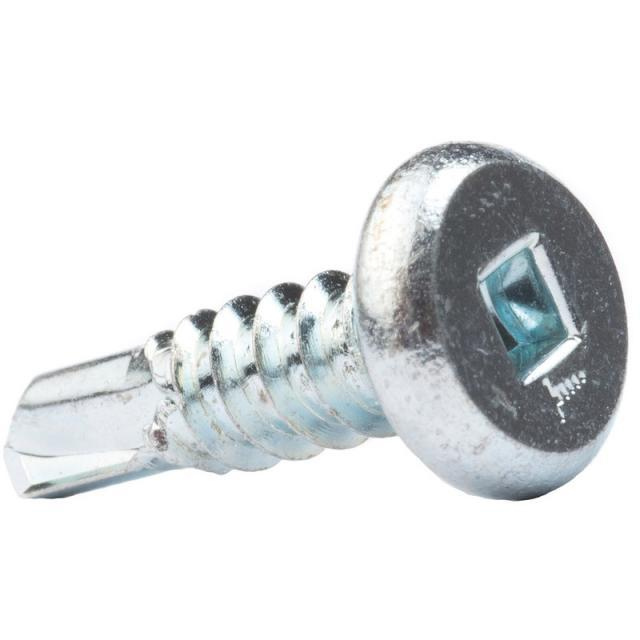Screw: (5, 142, 629, 500)
